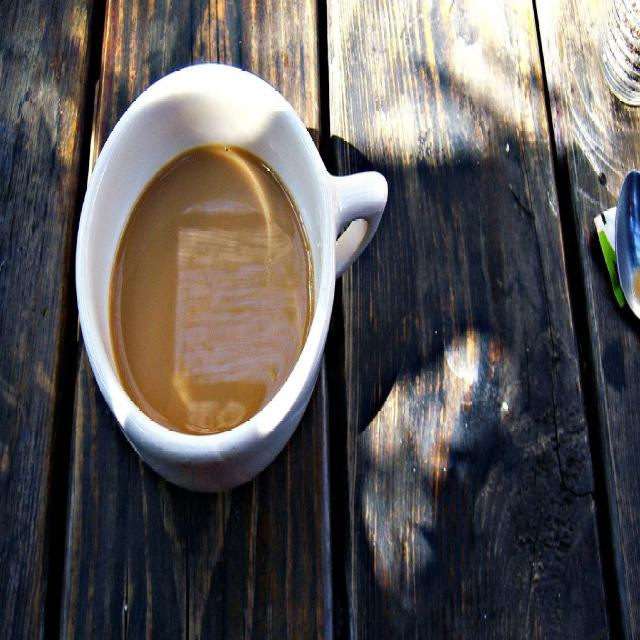Coffee: (109, 143, 312, 441)
Tea: (107, 148, 310, 431)
